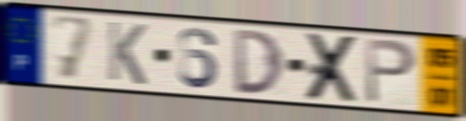6: (177, 26, 219, 91)
7: (49, 13, 96, 84)
D: (231, 27, 287, 97)
K: (105, 18, 148, 88)
P: (364, 36, 419, 107)
X: (303, 31, 361, 105)
